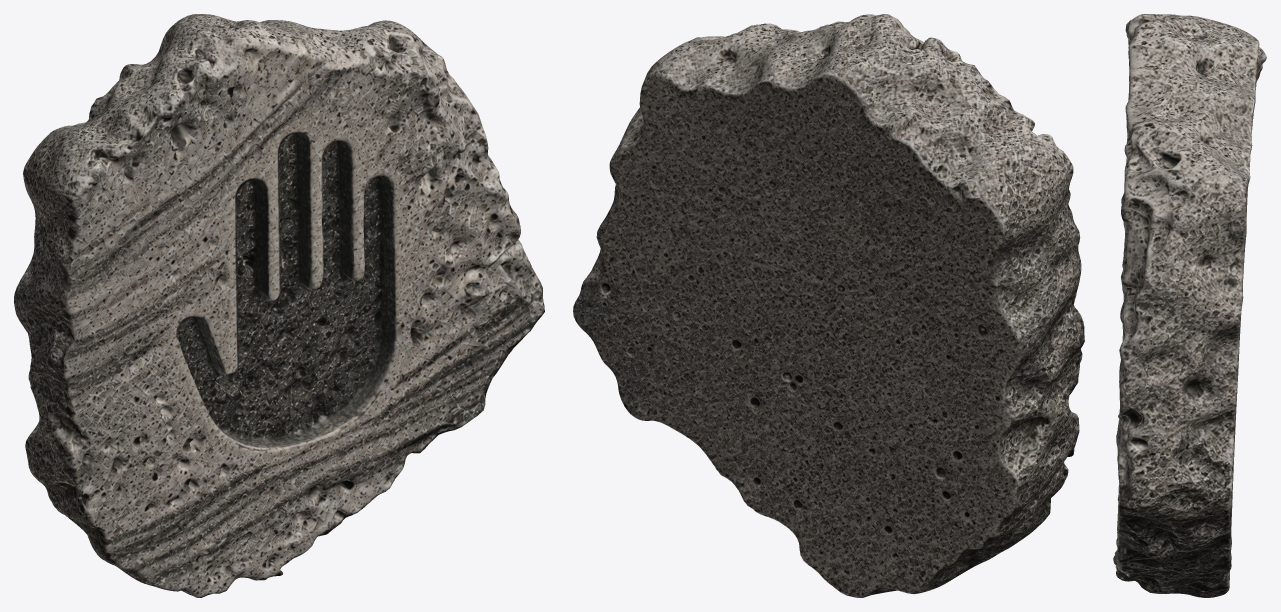
The model's file is hand_right.glb.
3 views of the same model, side by side, from view 1: azimuth 30°, elevation 25°; view 2: azimuth 150°, elevation 25°; view 3: azimuth 270°, elevation 25° (orthographic). The views are drawn at different scales.
Parts seen in each view (by area): view 1: tripo_node_98938712; view 2: tripo_node_98938712; view 3: tripo_node_98938712.
Part boxes in pixels (bbox=[...]): tripo_node_98938712: bbox=[14, 14, 544, 597]; tripo_node_98938712: bbox=[573, 14, 1084, 597]; tripo_node_98938712: bbox=[1113, 14, 1266, 597].
Size of the model in its own units: 88.7 by 97.9 by 23.82.
Materials: 1 (1 with a texture image).
